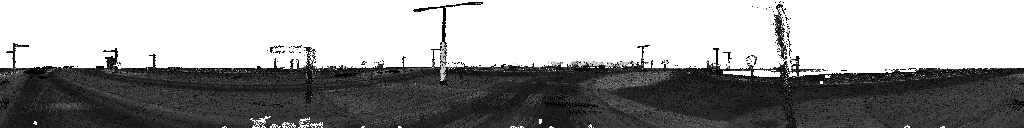light_pole: (413, 2, 481, 85), (773, 3, 794, 126), (6, 43, 28, 69), (103, 48, 119, 68), (431, 49, 439, 66), (722, 52, 730, 68), (638, 45, 649, 55), (713, 48, 718, 64), (149, 54, 155, 67)
traffic_pole: (269, 46, 314, 104), (746, 55, 756, 68), (290, 59, 299, 64)
